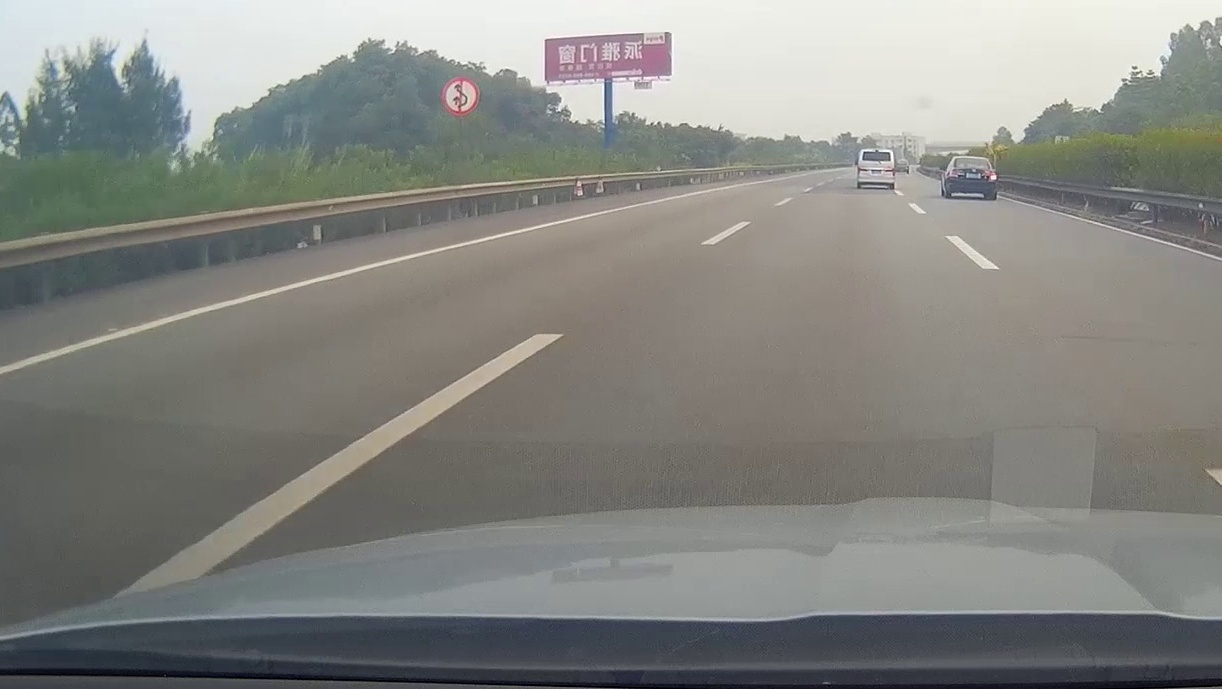L_light: (949, 169, 965, 178), (858, 168, 868, 176)
R_light: (982, 171, 997, 181), (885, 169, 895, 177)
T_light: (872, 151, 882, 154), (968, 157, 976, 159)
day-no: (856, 149, 895, 189)
day-right: (946, 155, 998, 200)
